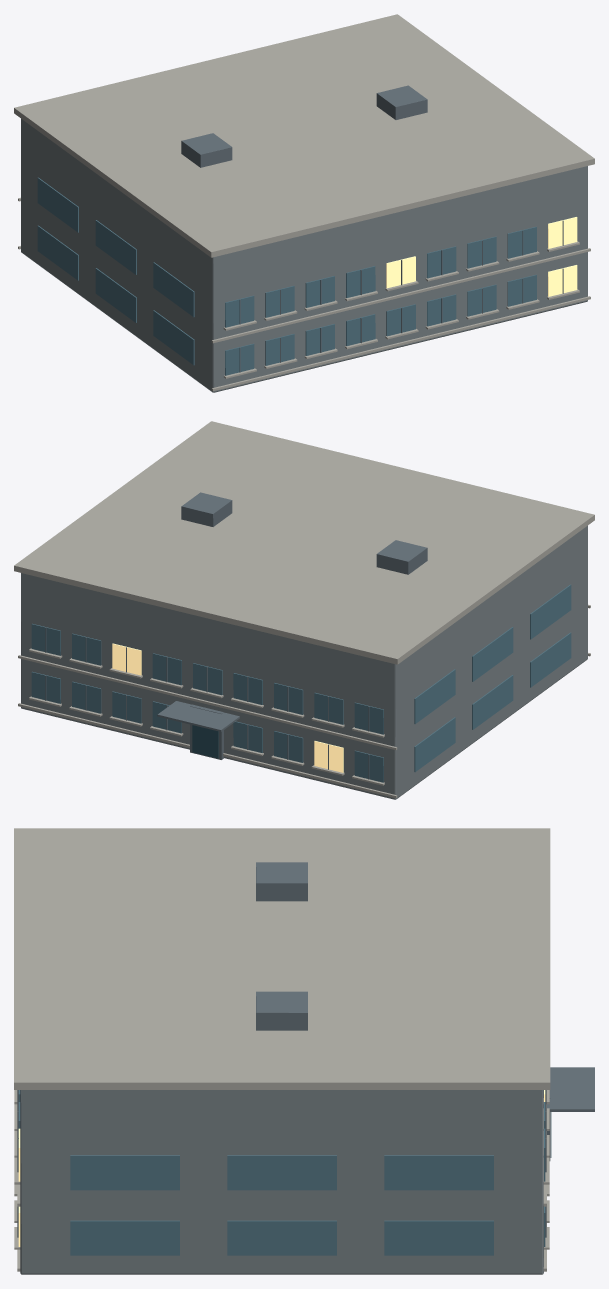
The model's file is Parking.fbx.
3 views of the same model, one above another, from view 1: azimuth 30°, elevation 25°; view 2: azimuth 150°, elevation 25°; view 3: azimuth 270°, elevation 25° (orthographic). The views are drawn at different scales.
Parts seen in each view (by area): view 1: Parking_LOD; view 2: Parking_LOD; view 3: Parking_LOD.
Boxes of the visible parts, left/top/right/bottom form: Parking_LOD: left=14, top=14, right=594, bottom=392; Parking_LOD: left=14, top=421, right=594, bottom=799; Parking_LOD: left=14, top=828, right=594, bottom=1274.
Size of the model in its own units: 27.58 by 10.79 by 26.64.
